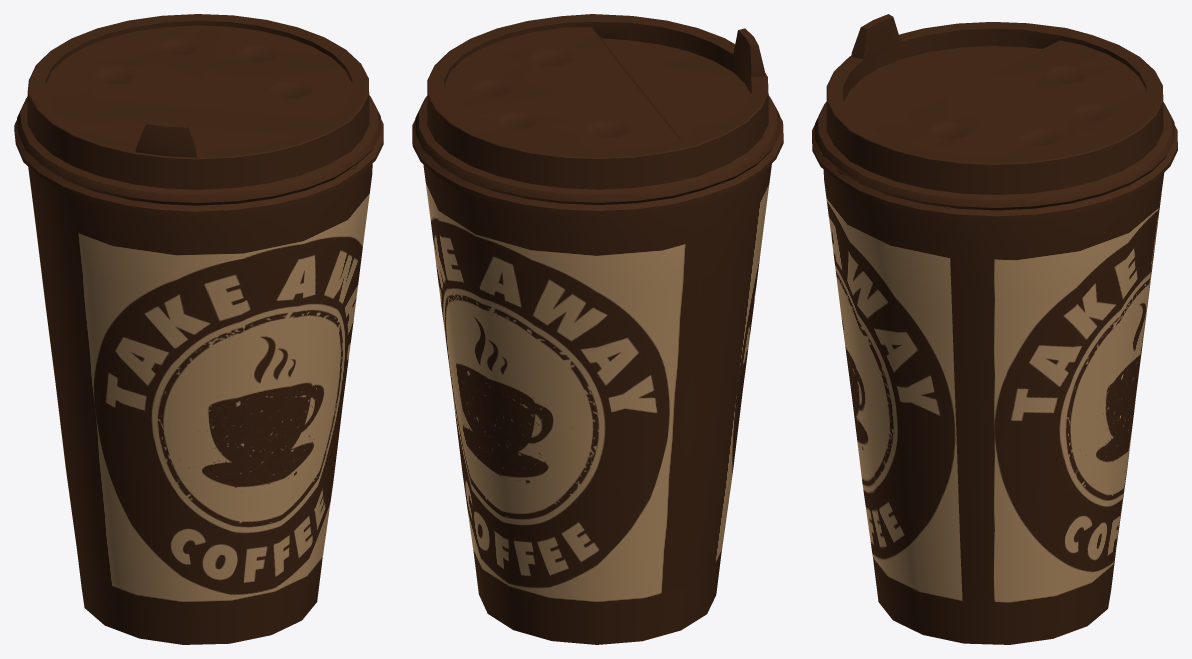
Rendered from Take away coffee.fbx.
The picture shows the model from 3 angles, left to right: view 1: azimuth 30°, elevation 25°; view 2: azimuth 150°, elevation 25°; view 3: azimuth 270°, elevation 25°; orthographic projection.
Visible parts, largest first — view 1: Take away coffee; view 2: Take away coffee; view 3: Take away coffee.
Part boxes in pixels (x1=…): Take away coffee: x1=14, y1=14, x2=383, y2=644; Take away coffee: x1=412, y1=14, x2=783, y2=644; Take away coffee: x1=812, y1=14, x2=1177, y2=644.
Size of the model in its own units: 9.97 by 15.88 by 9.93.
Materials: 1 (1 with a texture image).
